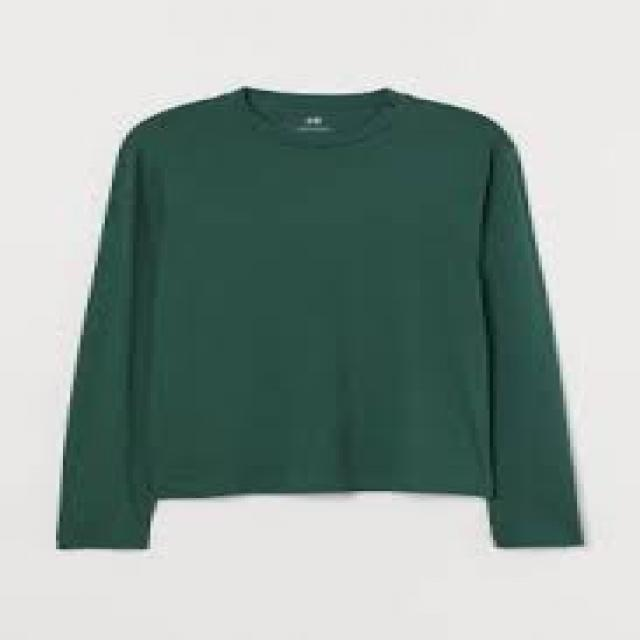plain: (64, 75, 593, 555)
